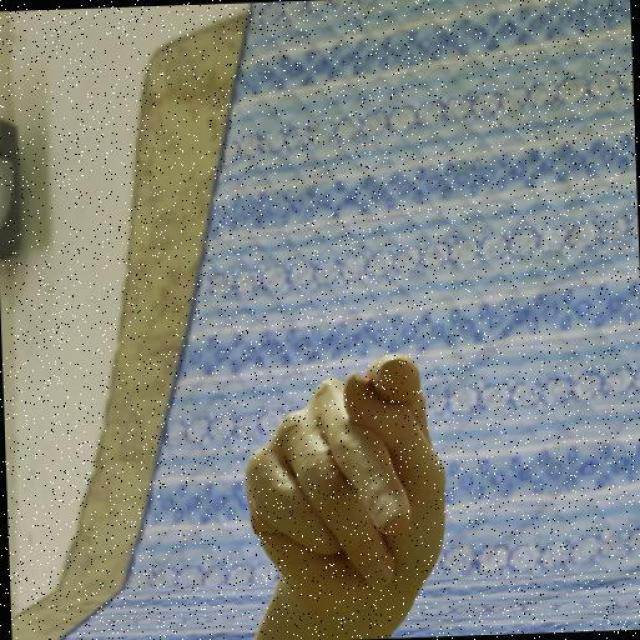P: (237, 348, 448, 611)
